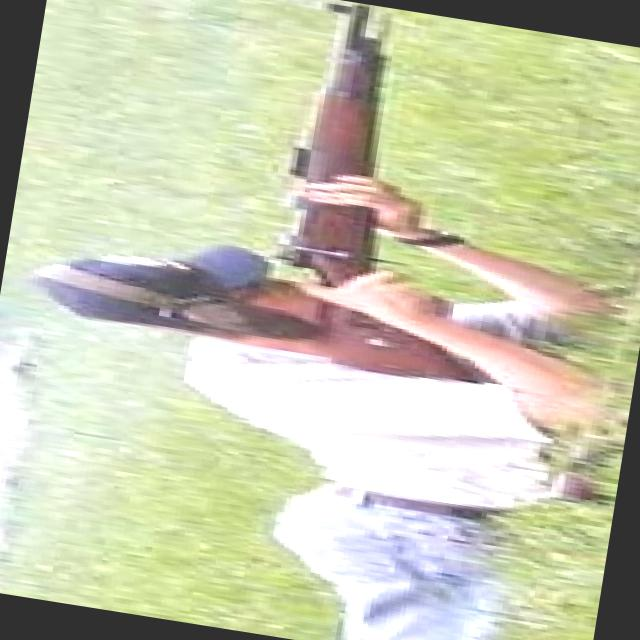long weapon: (241, 0, 493, 425)
